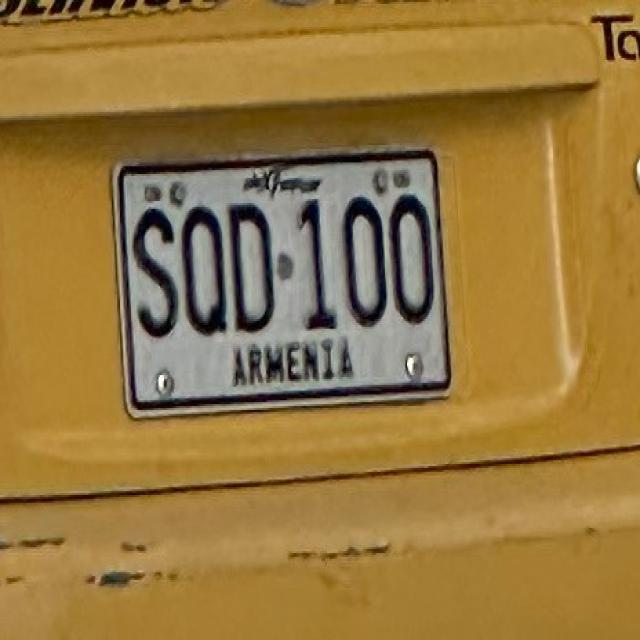number plate: (113, 149, 447, 414)
